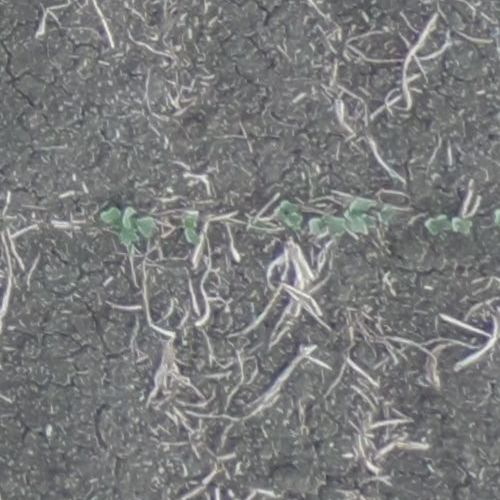clumped: (304, 198, 394, 239)
isolated: (97, 206, 159, 245), (176, 208, 207, 248), (426, 217, 476, 236), (278, 200, 304, 234), (491, 202, 499, 231)
